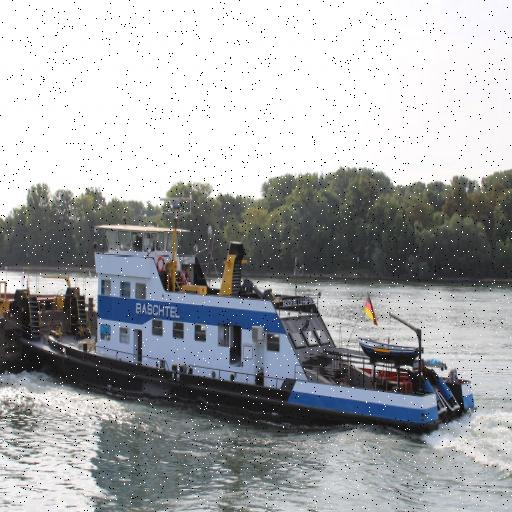tugboat: (16, 191, 483, 443)
